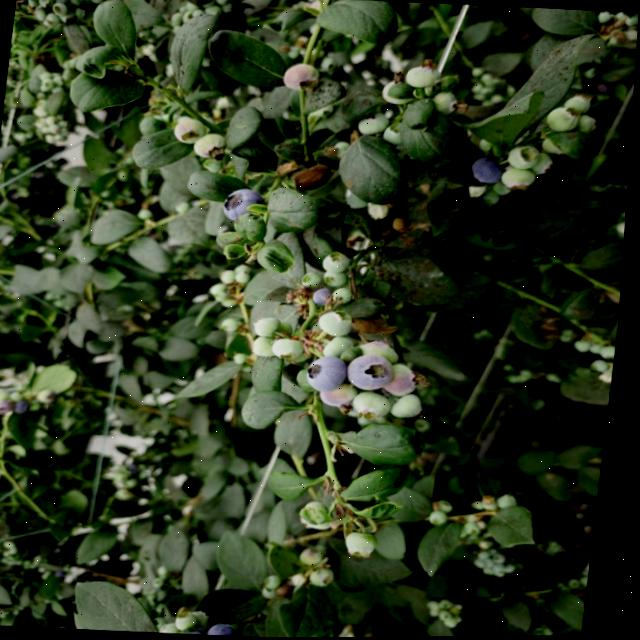RipeBlueBerry: (309, 353, 355, 393), (224, 186, 268, 221), (471, 155, 508, 184)
Semi-RipeBlueBerry: (350, 353, 402, 391), (283, 61, 323, 91)
UnripeBlueBerry: (390, 362, 426, 397), (357, 391, 399, 421), (322, 308, 362, 338), (405, 62, 446, 89), (194, 131, 231, 159)
